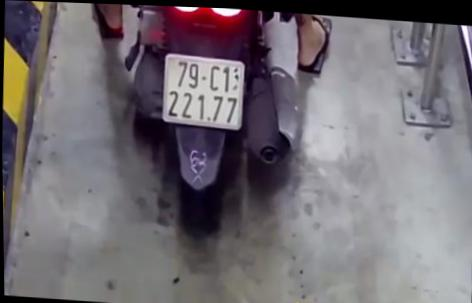LP: (160, 50, 247, 132)
